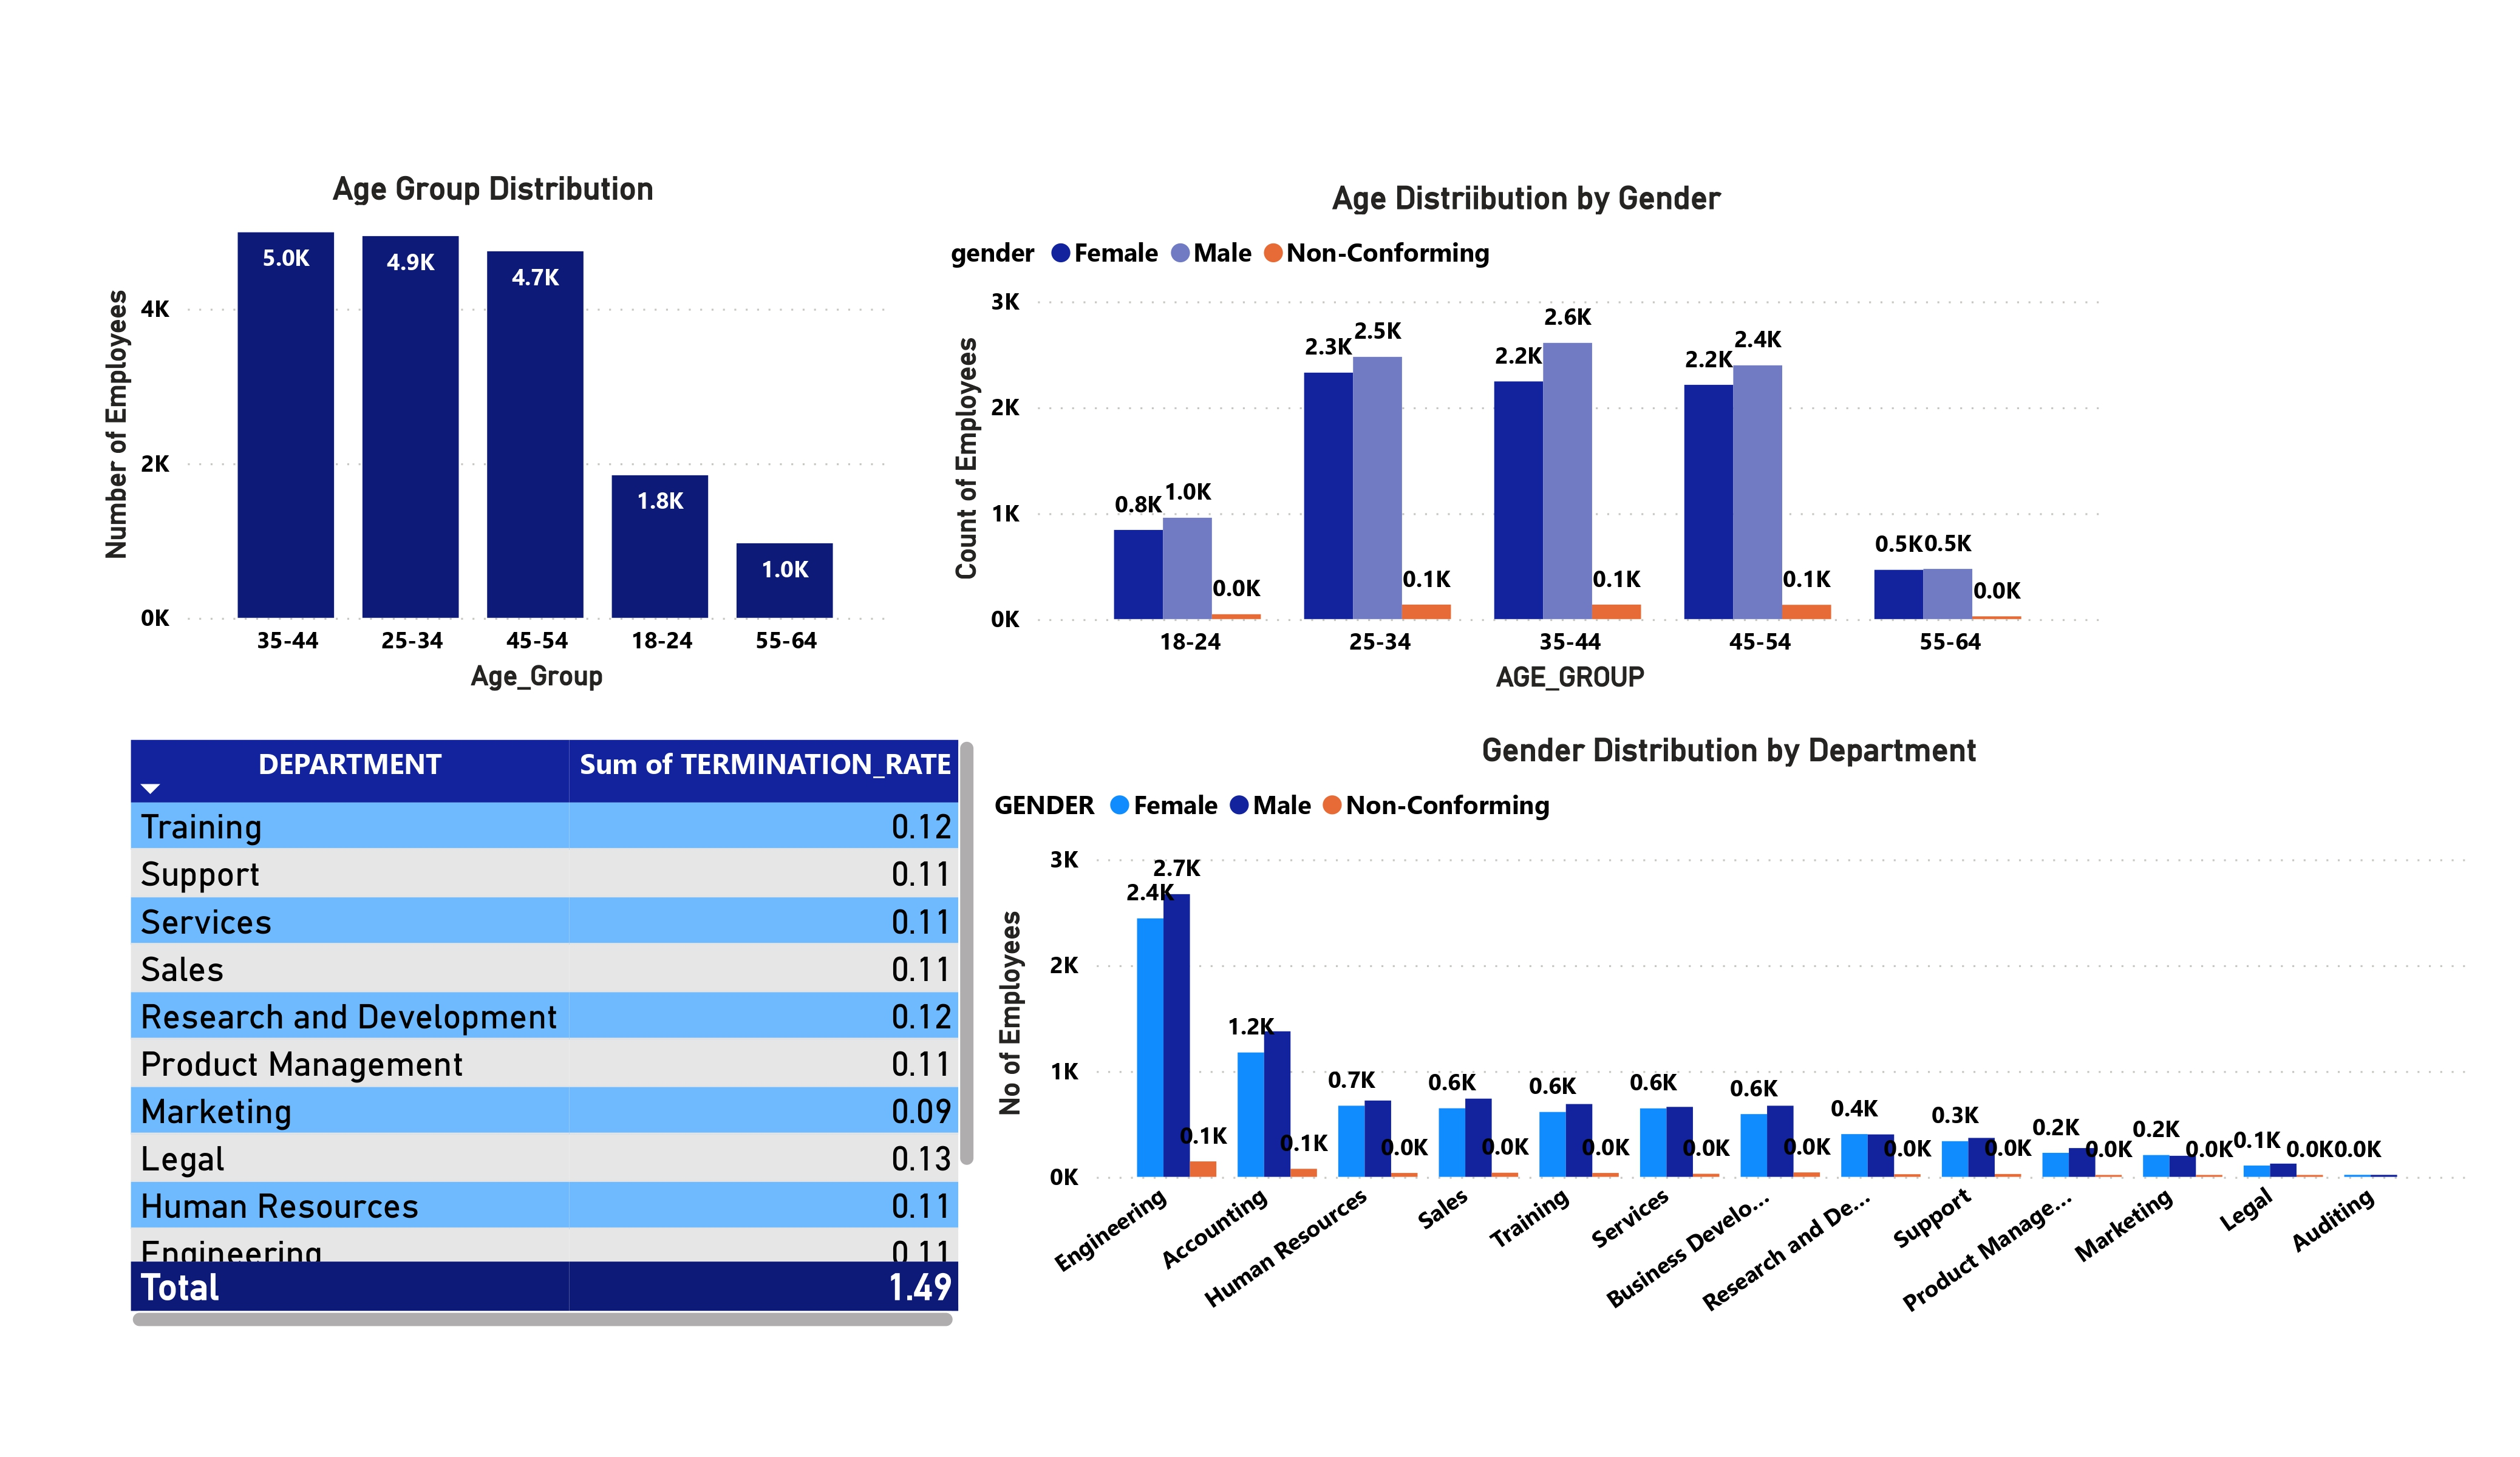

The dashboard page shown, as its layout file describes it:
{"tool":"powerbi","page":{"name":"Page 2","canvas":[1280,720],"ordinal":1},"visuals":[{"type":"columnChart","title":"Age Group Distribution","fields":{"Category":["AGE_GROUP.AGE_GROUP"],"Y":["Sum(AGE_GROUP.COUNT)"]},"box":[24.3,64.7,423.9,279.9],"z":0},{"type":"clusteredColumnChart","title":"Age Distriibution by Gender","fields":{"Category":["AGE_GROUP_GENDER.AGE_GROUP"],"Y":["Sum(AGE_GROUP_GENDER.COUNT)"],"Series":["AGE_GROUP_GENDER.gender"]},"box":[472.4,69.6,616.4,275.1],"z":1},{"type":"tableEx","fields":{"Values":["TURNOVER_RATE.DEPARTMENT","Sum(TURNOVER_RATE.TERMINATION_RATE)"]},"box":[38.8,360.8,456.3,320.4],"z":2},{"type":"clusteredColumnChart","title":"Gender Distribution by Department","fields":{"Category":["GENDER_DEPTS.DEPARTMENT"],"Y":["Sum(GENDER_DEPTS.COUNT)"],"Series":["GENDER_DEPTS.GENDER"]},"box":[495.1,360.8,784.7,320.4],"z":3}]}

Visuals, with their boxes on the page's 1280x720 design canvas (x1, y1, x2, y2). These are canvas units, not pixel positions in the 2520x1457 screenshot, which may show the page scaled, cropped or inside an application window:
"Age Group Distribution" columnChart: rect(24, 65, 448, 345)
"Age Distriibution by Gender" clusteredColumnChart: rect(472, 70, 1089, 345)
tableEx - TURNOVER_RATE.DEPARTMENT x Sum(TURNOVER_RATE.TERMINATION_RATE): rect(39, 361, 495, 681)
"Gender Distribution by Department" clusteredColumnChart: rect(495, 361, 1280, 681)
